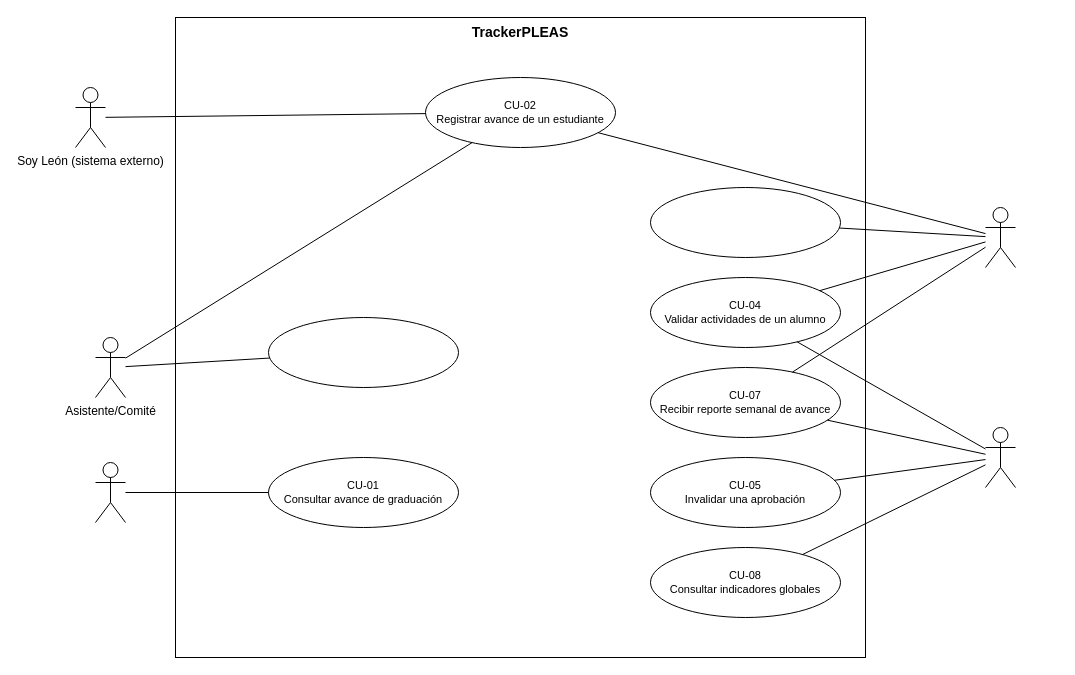
Some shapes in this 1075 by 675 pixel diagram are drawn without their labels. Here are the shapes that lost their labels. From the top down, the box of each, then its label:
(650, 186, 840, 258): CU-06 Declarar apto para graduación a un estudiante
(984, 206, 1016, 268): Director de Programa
(268, 316, 458, 388): CU-03 Revisar evidencias de una actividad
(984, 426, 1016, 488): Director General
(94, 462, 126, 522): Estudiante
